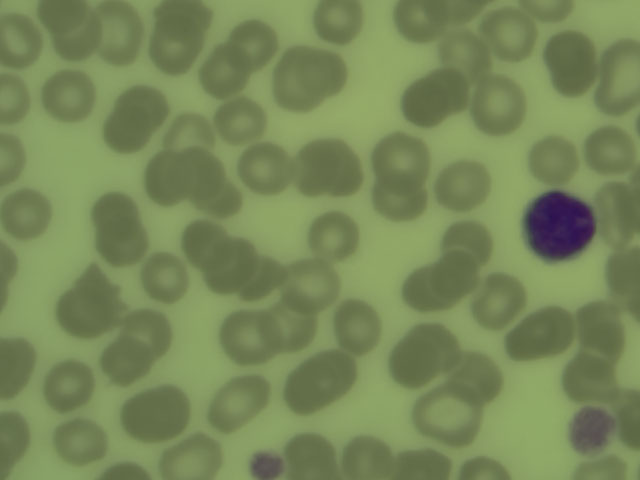Platelets: (249, 450, 287, 480)
RBC: (300, 136, 364, 197), (287, 360, 359, 411), (370, 132, 433, 186), (473, 77, 530, 136), (419, 387, 480, 442), (129, 388, 191, 442), (265, 294, 323, 351), (93, 1, 143, 66), (154, 435, 224, 480), (217, 310, 278, 360), (576, 299, 631, 354), (288, 46, 351, 94), (289, 254, 343, 307), (308, 209, 362, 262), (450, 351, 503, 403), (603, 39, 640, 113), (435, 160, 491, 208), (584, 126, 640, 174), (117, 83, 175, 129), (565, 356, 623, 402), (123, 310, 175, 361), (527, 138, 581, 187), (435, 36, 492, 82), (411, 321, 462, 372), (197, 45, 249, 95), (143, 153, 190, 207), (336, 301, 389, 348), (53, 422, 112, 464), (476, 274, 523, 326), (376, 176, 430, 221), (530, 302, 573, 358), (286, 434, 340, 478), (151, 26, 200, 74), (240, 256, 292, 301), (45, 18, 102, 59), (75, 267, 123, 315), (240, 144, 289, 191), (86, 189, 140, 231), (44, 74, 93, 120), (98, 338, 148, 383), (212, 378, 263, 422), (601, 183, 640, 240), (405, 262, 446, 316), (274, 59, 319, 108), (103, 111, 153, 155), (342, 436, 392, 480), (230, 20, 276, 67), (486, 12, 533, 58), (397, 77, 441, 126), (312, 1, 363, 43), (220, 98, 267, 143), (443, 224, 497, 263), (1, 336, 33, 401), (2, 15, 40, 69), (99, 224, 149, 265), (143, 256, 189, 300), (4, 189, 46, 237), (58, 291, 104, 334), (429, 69, 472, 115), (397, 446, 455, 480), (205, 245, 256, 283), (180, 219, 224, 262), (157, 1, 210, 36), (435, 253, 478, 296), (51, 363, 92, 408), (392, 340, 428, 390), (184, 152, 224, 195), (557, 54, 597, 97), (168, 118, 212, 157), (601, 253, 640, 297), (1, 413, 32, 465), (1, 74, 31, 126), (394, 2, 439, 36), (506, 319, 547, 356), (547, 33, 589, 69), (207, 183, 247, 219), (1, 132, 26, 188), (571, 457, 631, 480), (523, 1, 578, 24), (39, 1, 87, 26), (466, 453, 508, 480), (625, 388, 640, 450), (447, 1, 489, 22)
WBC: (524, 190, 596, 264), (559, 399, 619, 460)
